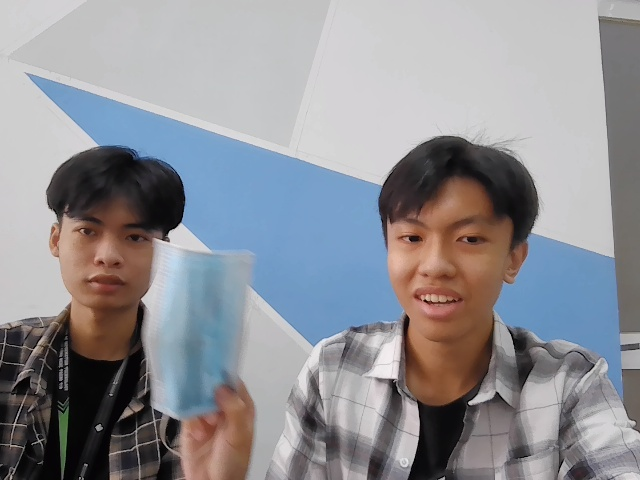human: (375, 131, 541, 337), (50, 143, 188, 309)
mask: (146, 235, 253, 419)
